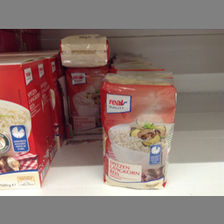rice: (99, 73, 179, 188), (66, 67, 111, 134), (59, 33, 111, 67)
